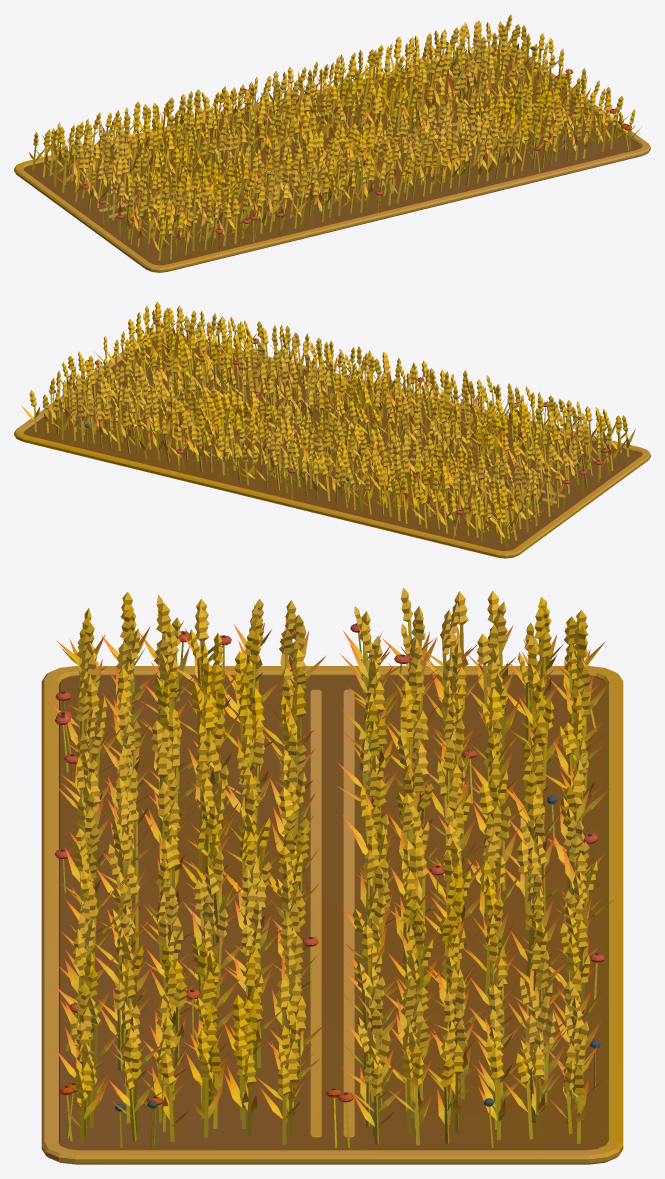
File: Farm_WheatField_12x6m.glb
3 views of the same model, one above another, from view 1: azimuth 30°, elevation 25°; view 2: azimuth 150°, elevation 25°; view 3: azimuth 270°, elevation 25° (orthographic). The views are drawn at different scales.
Visible parts, largest first — view 1: Farm_WheatField_12x6m; view 2: Farm_WheatField_12x6m; view 3: Farm_WheatField_12x6m.
Boxes of the visible parts, bbox=[...] form: Farm_WheatField_12x6m: bbox=[14, 14, 650, 272]; Farm_WheatField_12x6m: bbox=[14, 301, 650, 558]; Farm_WheatField_12x6m: bbox=[41, 588, 623, 1164].
Bounding box in the file's own units: 12 × 1.21 × 6.
